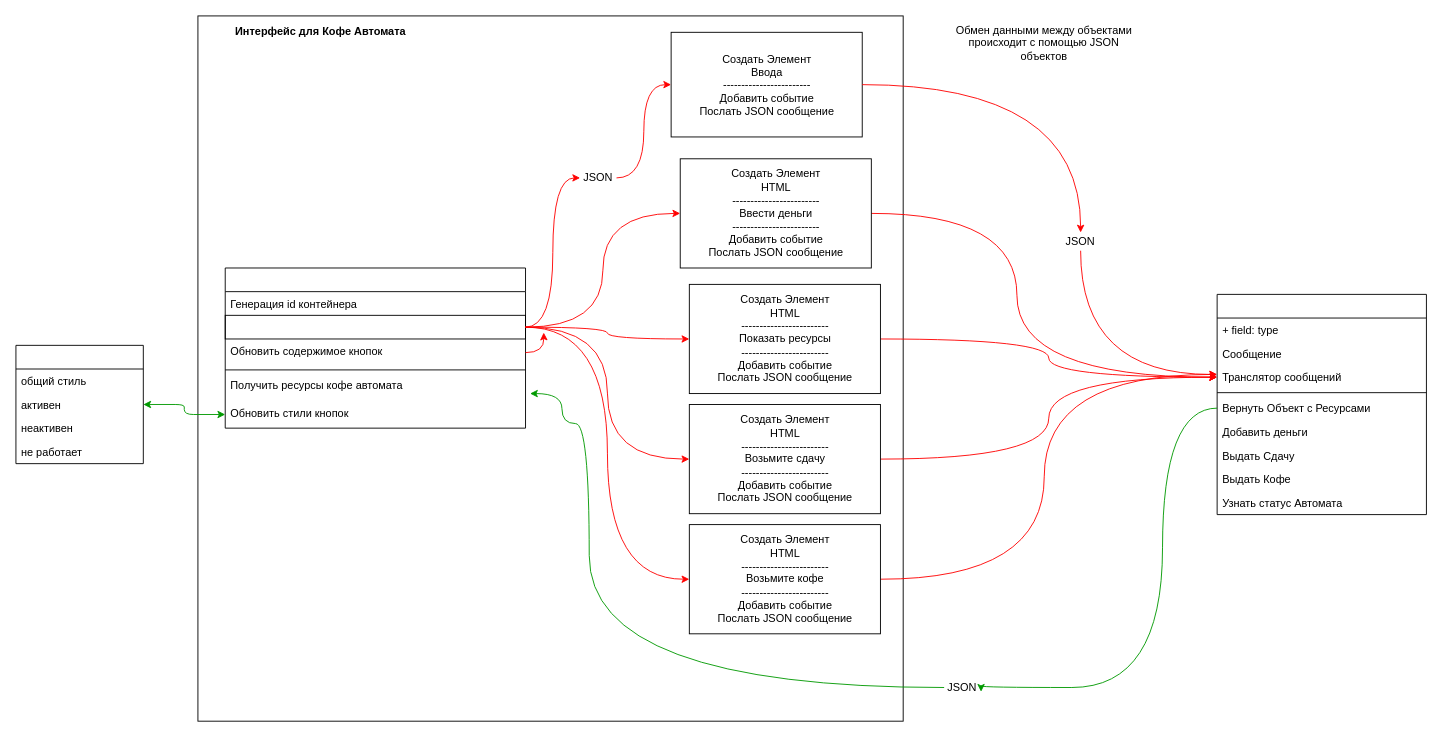
Some shapes in this 1442 by 737 pixel diagram are drawn without their labels. The box of each missing label's shape, as (x1, y1, x2, y2) in pixels:
Генерация кнопок: (224, 314, 526, 339)
Кофе Автомат: (1216, 293, 1426, 515)
Стили для кнопок: (15, 344, 143, 464)
